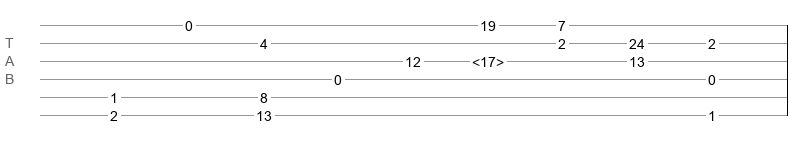0: (185, 18, 193, 28), (334, 72, 342, 82), (708, 72, 716, 82)
1: (110, 90, 118, 100), (708, 108, 716, 118)
12: (405, 54, 421, 64)
13: (256, 108, 272, 118), (629, 54, 645, 64)
19: (480, 18, 496, 28)
2: (110, 108, 118, 118), (558, 36, 566, 46), (708, 36, 716, 46)
24: (629, 36, 645, 46)
4: (260, 36, 268, 46)
7: (558, 18, 566, 28)
8: (260, 90, 268, 100)
harmonic: (472, 54, 504, 64)
